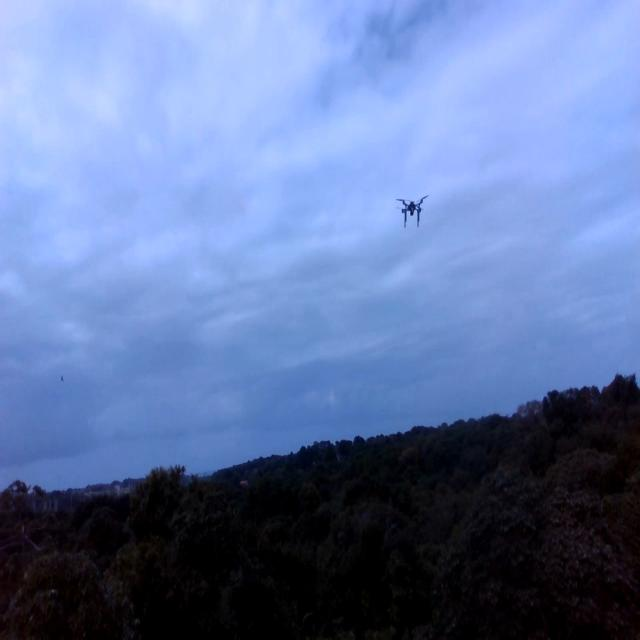-uav-: (393, 182, 432, 234)
